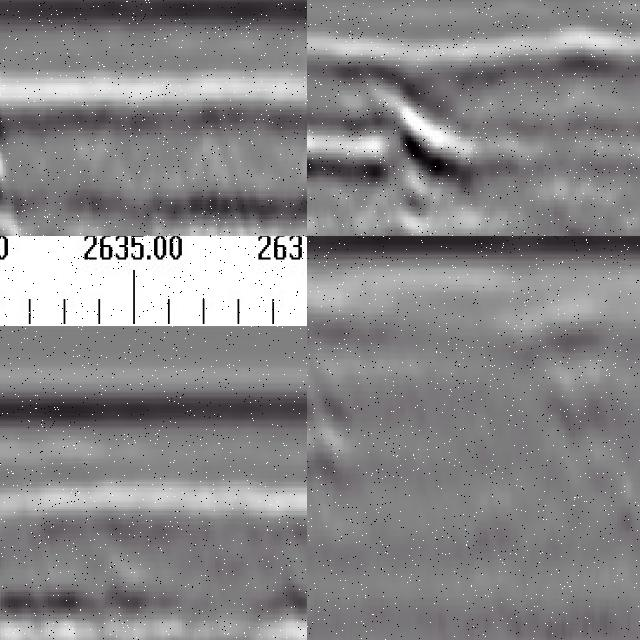crack: (308, 51, 544, 237), (308, 307, 332, 640)
loose: (308, 318, 366, 513), (1, 106, 52, 237), (1, 559, 66, 640)
